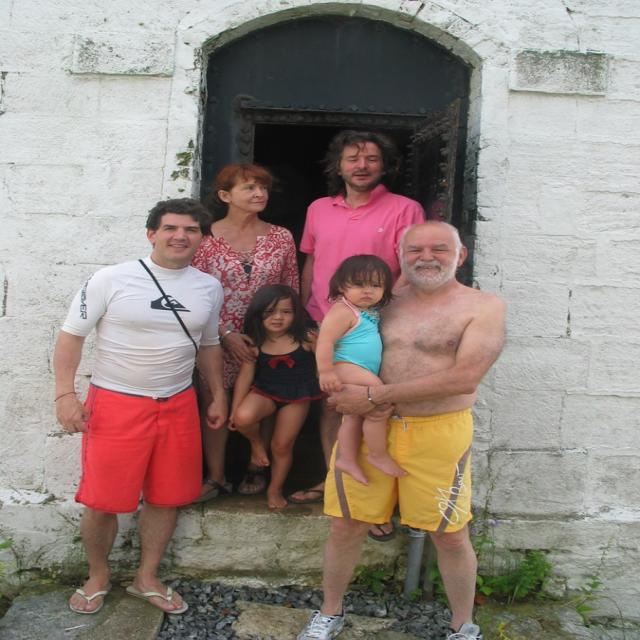body: (291, 214, 514, 639), (48, 197, 234, 616), (288, 128, 428, 502), (188, 162, 300, 504), (315, 252, 416, 489), (226, 282, 322, 511)
